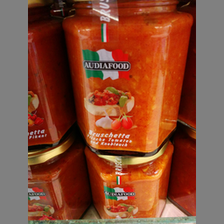tomato_sauce: (61, 1, 195, 155), (84, 145, 174, 224)
